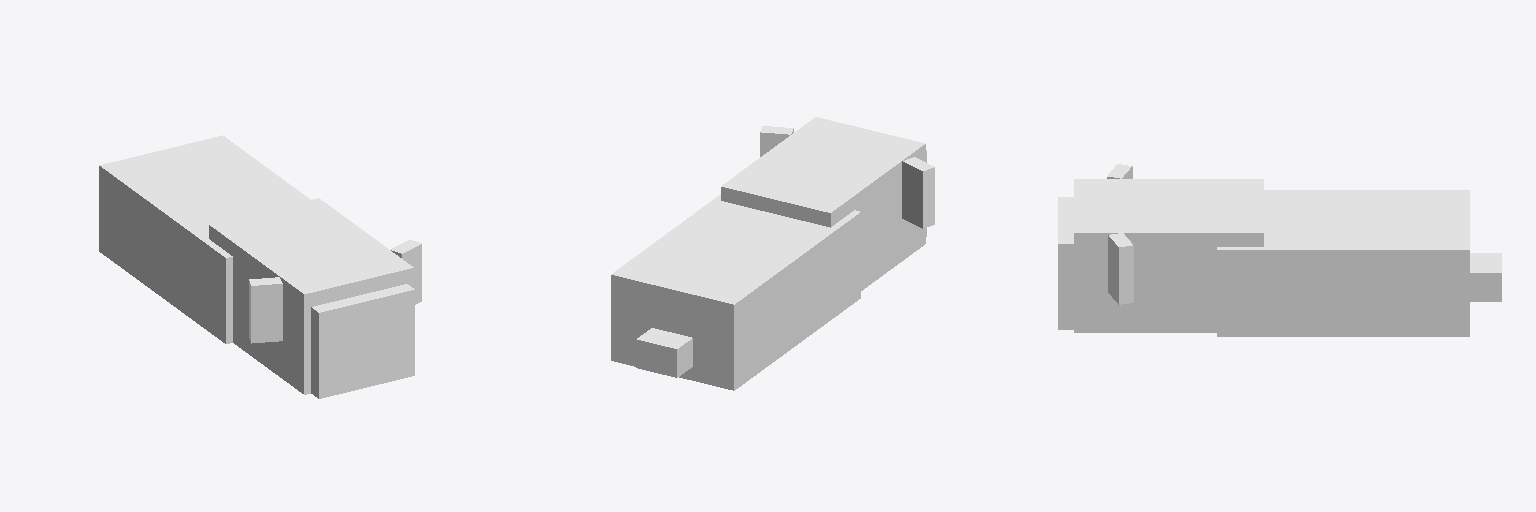
Rendered from meng_body.obj.
The picture shows the model from 3 angles: view 1: azimuth 30°, elevation 25°; view 2: azimuth 150°, elevation 25°; view 3: azimuth 270°, elevation 25°; orthographic projection.
Visible parts, largest first — view 1: Element #32, Element #28, Element #2, Element #13, Element #12; view 2: Element #32, Element #28, Element #14, Element #13, Element #12; view 3: Element #32, Element #28, Element #2, Element #12, Element #14.
Boxes of the visible parts, <box> form: Element #32: <box>99,135,310,343</box>; Element #28: <box>209,198,413,394</box>; Element #2: <box>311,284,414,398</box>; Element #13: <box>249,277,282,343</box>; Element #12: <box>390,240,421,304</box>; Element #32: <box>611,194,860,390</box>; Element #28: <box>721,117,925,290</box>; Element #14: <box>636,328,692,377</box>; Element #13: <box>902,157,934,228</box>; Element #12: <box>760,126,793,156</box>; Element #32: <box>1217,190,1469,336</box>; Element #28: <box>1074,179,1263,332</box>; Element #2: <box>1058,197,1073,329</box>; Element #12: <box>1108,233,1133,304</box>; Element #14: <box>1470,253,1501,301</box>.
Bounding box in the file's own units: 6.25 × 3.5 × 14.